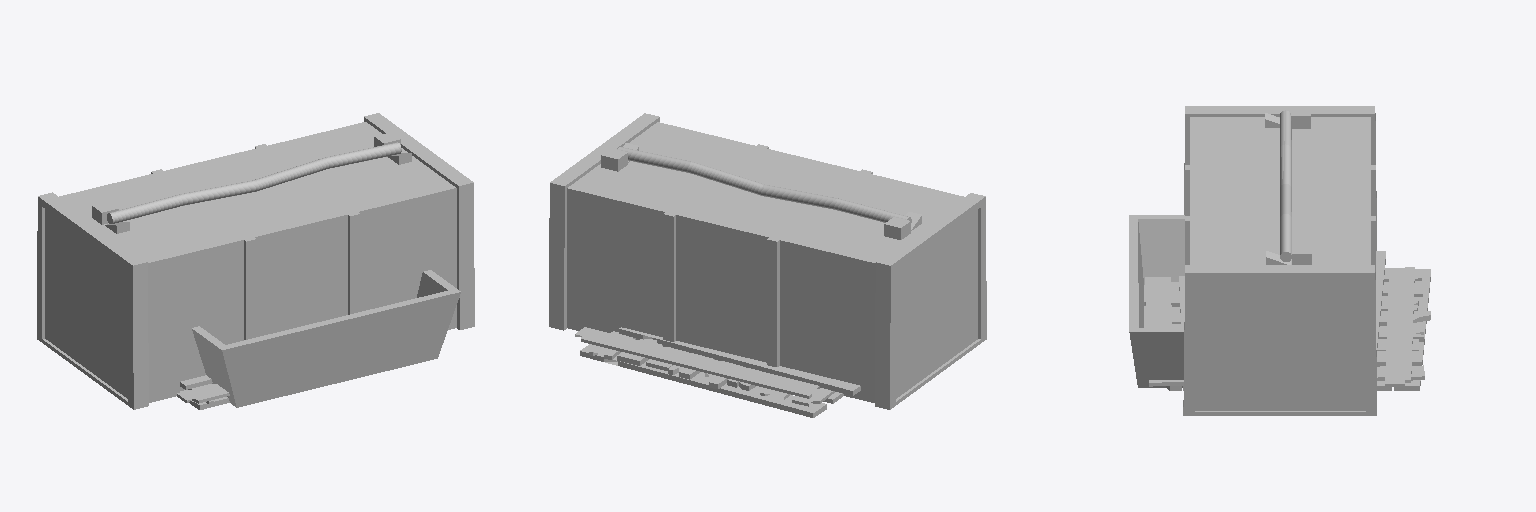
The model's file is details.obj.
3 views of the same model, side by side, from view 1: azimuth 30°, elevation 25°; view 2: azimuth 150°, elevation 25°; view 3: azimuth 270°, elevation 25° (orthographic).
Parts seen in each view (by area): view 1: Cube:114_Cube:126, Cube:118_Cube:129.001, Cube:115_Cube:113; view 2: Cube:114_Cube:126, Cube:115_Cube:113, Cube:118_Cube:129.001; view 3: Cube:114_Cube:126, Cube:118_Cube:129.001, Cube:115_Cube:113.
Boxes of the visible parts, box(x1,y1,x2,y2) form: Cube:114_Cube:126: box(37, 113, 474, 409); Cube:118_Cube:129.001: box(92, 132, 460, 407); Cube:115_Cube:113: box(177, 375, 229, 409); Cube:114_Cube:126: box(549, 113, 986, 409); Cube:115_Cube:113: box(575, 327, 860, 417); Cube:118_Cube:129.001: box(601, 143, 921, 239); Cube:114_Cube:126: box(1183, 106, 1376, 415); Cube:118_Cube:129.001: box(1129, 108, 1311, 387); Cube:115_Cube:113: box(1144, 251, 1430, 390).
Size of the model in its own units: 2.85 by 1.25 by 2.19.